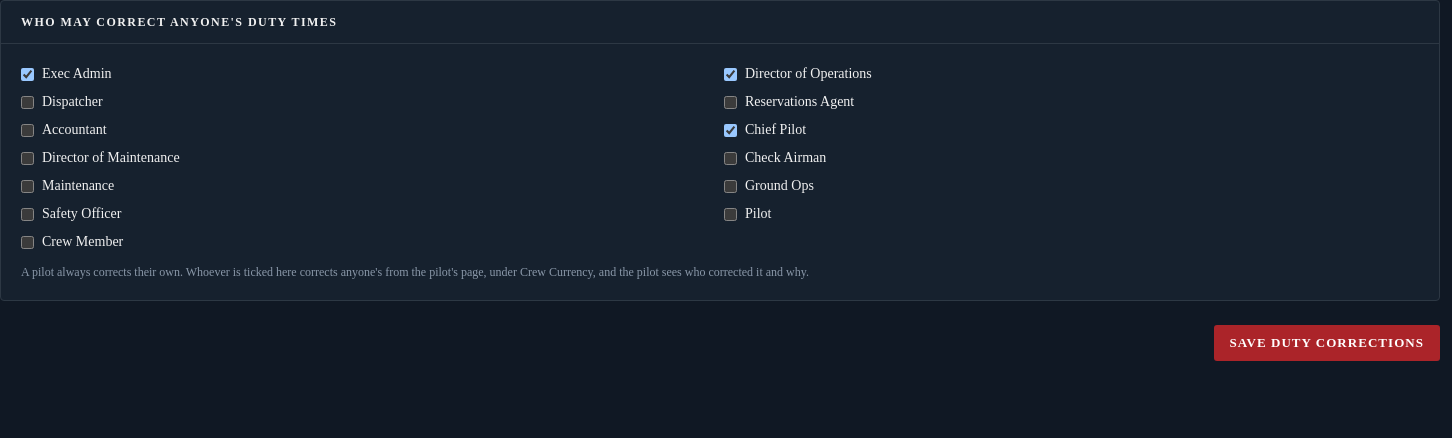
DutySettingsForm › says why a save was refused
Click the button "Save Duty Corrections" at x=1327, y=343, box x1=1214 y1=325 x2=1440 y2=360
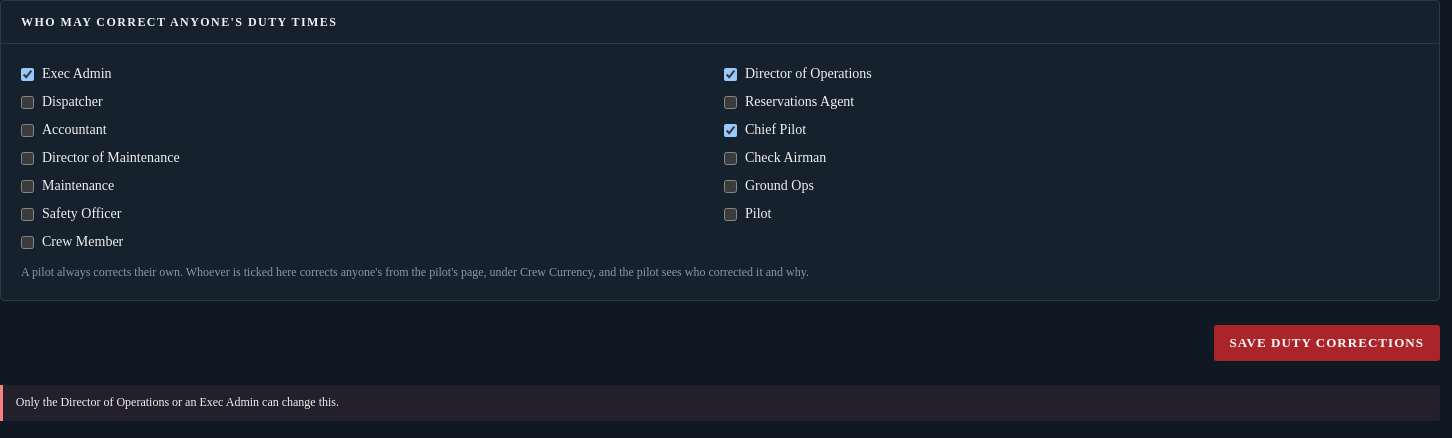
Expected: the message shows "Only the Director of Operations or an Exec Admin", x1=16 y1=395 x2=339 y2=409
